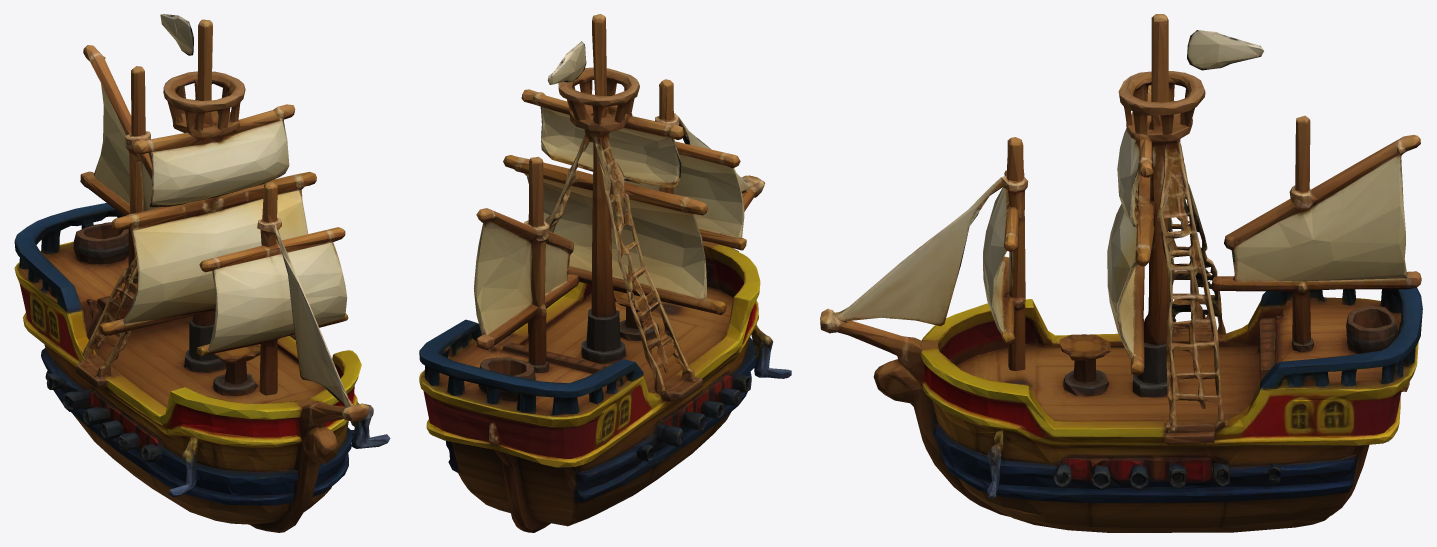
File: galleon.glb
3 views of the same model, side by side, from view 1: azimuth 30°, elevation 25°; view 2: azimuth 150°, elevation 25°; view 3: azimuth 270°, elevation 25° (orthographic). The views are drawn at different scales.
Parts seen in each view (by area): view 1: geometry_0; view 2: geometry_0; view 3: geometry_0.
Part boxes in pixels (bbox=[...]): geometry_0: bbox=[14, 14, 390, 532]; geometry_0: bbox=[419, 14, 791, 532]; geometry_0: bbox=[820, 14, 1422, 532].
Size of the model in its own units: 0.4642 by 0.925 by 0.9949.
1 material, 1 textured.
